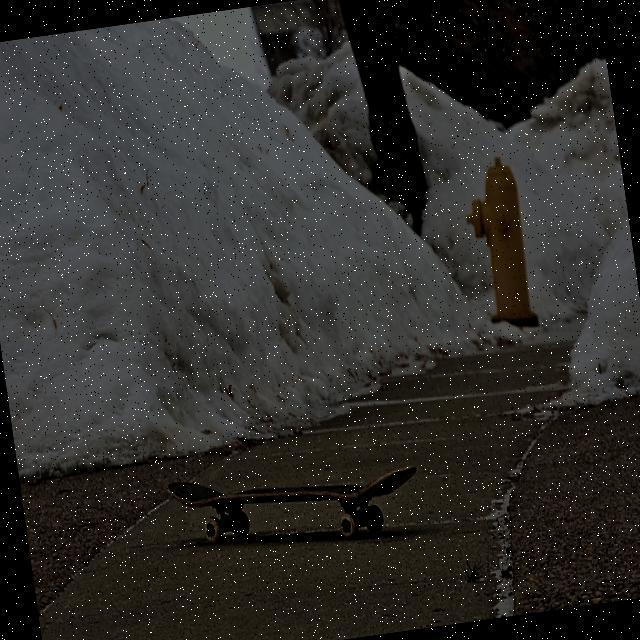fire_hydrant: (458, 152, 540, 332)
